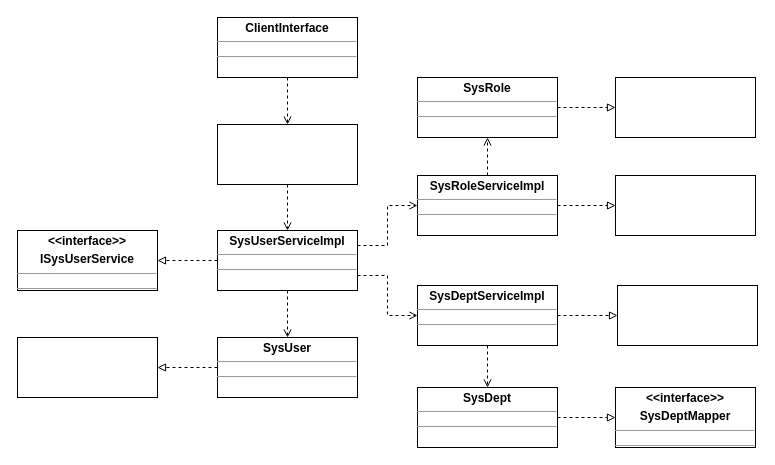
Some shapes in this 775 by 465 pixel diagram are drawn without their labels. The shapes that lost their labels are listed below. From the top down, each one's centre as x and y in pixels, then its label:
At point 685,107: "<<interface>> SysRoleMapper".
At point 287,154: "SysUserController".
At point 685,205: "<<interface>> ISysRoleService".
At point 687,315: "<<interface>> ISysDeptService".
At point 87,367: "<<interface>> SysUserMapper".
